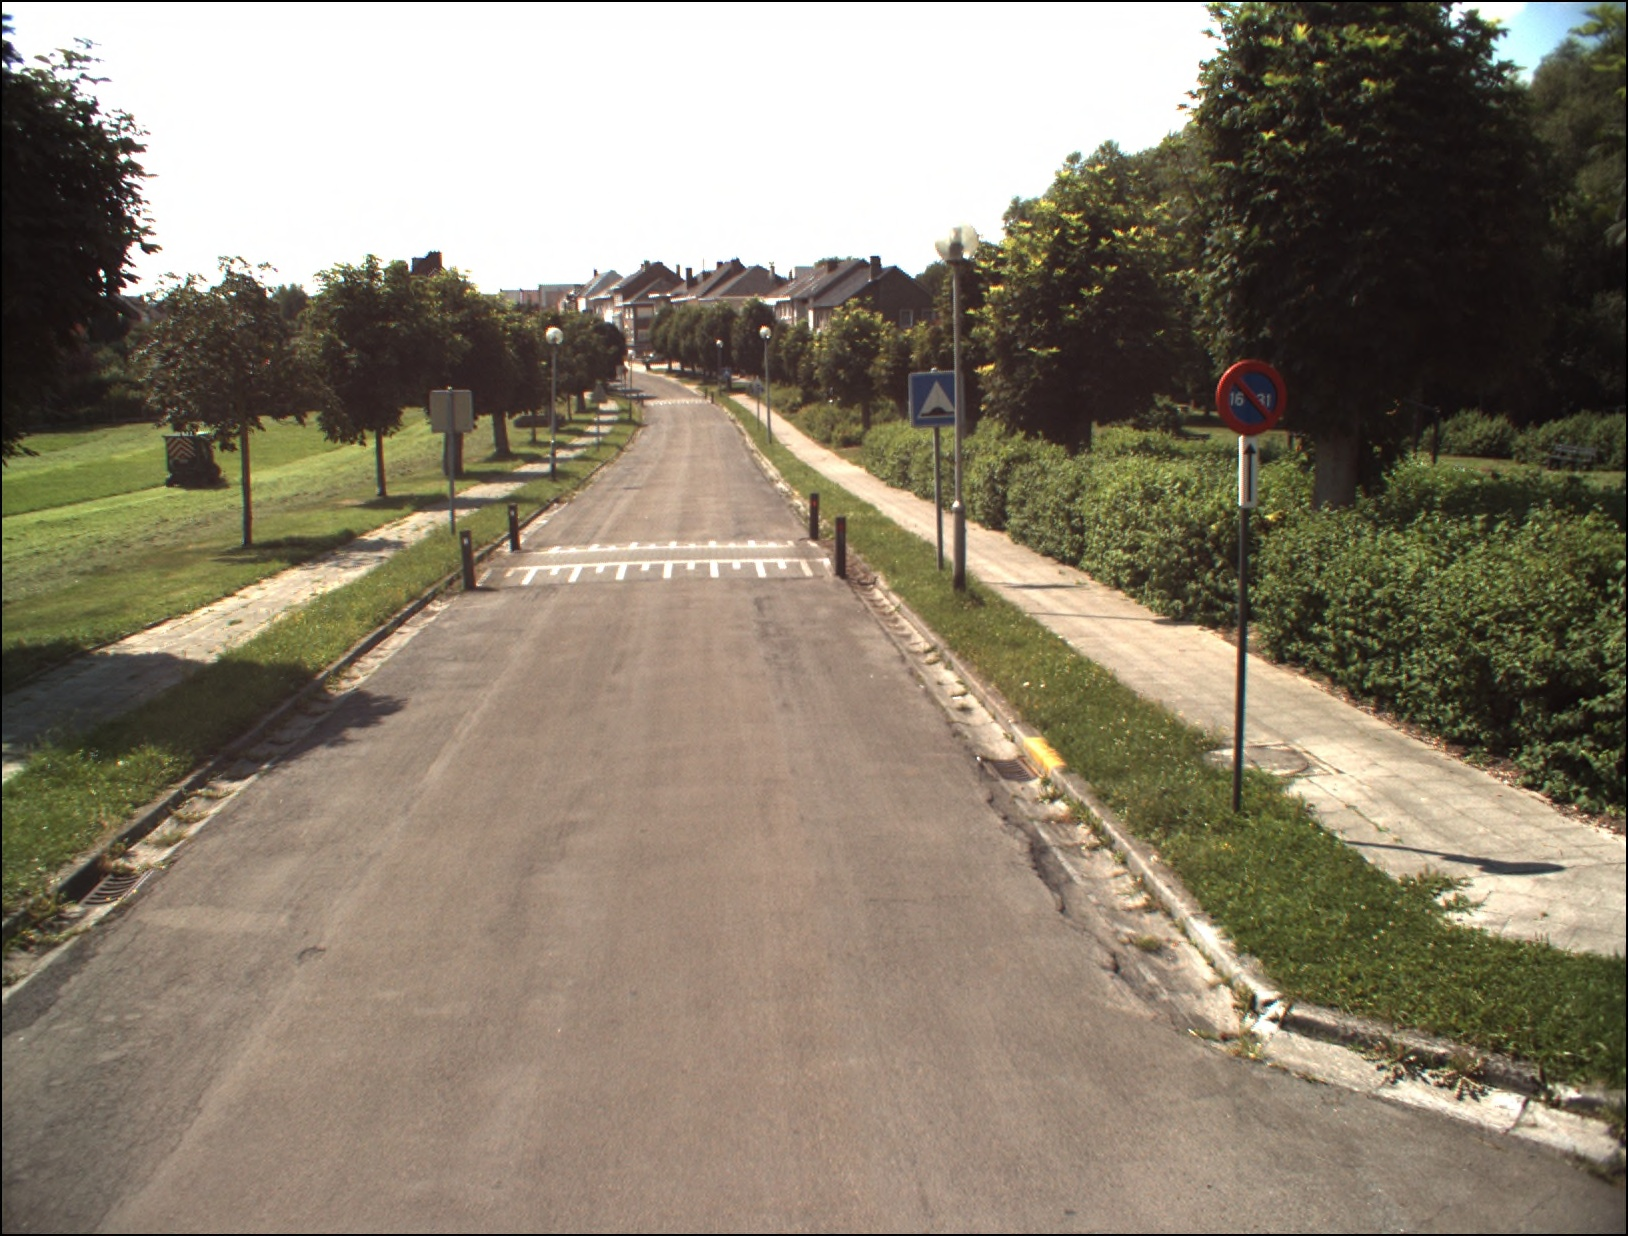speedbump: (907, 371, 971, 425)
